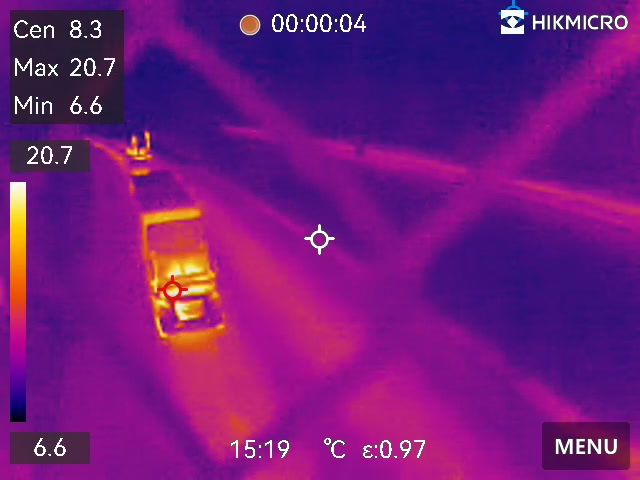heavyTruck: (115, 167, 240, 345)
